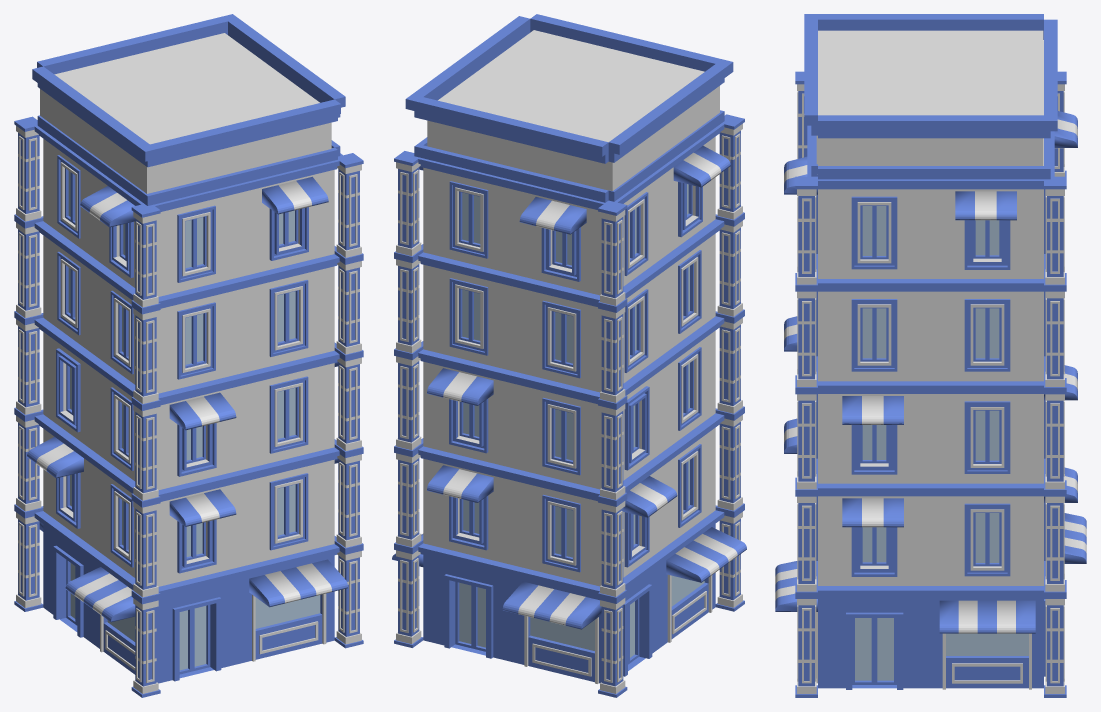
The model's file is Building_5.fbx.
The picture shows the model from 3 angles, left to right: view 1: azimuth 30°, elevation 25°; view 2: azimuth 150°, elevation 25°; view 3: azimuth 270°, elevation 25°; orthographic projection. The views are drawn at different scales.
Parts seen in each view (by area): view 1: Home-3.002; view 2: Home-3.002; view 3: Home-3.002.
Part boxes in pixels (box(x1,y1,x2,y2)): Home-3.002: box(14, 14, 363, 697); Home-3.002: box(392, 14, 746, 697); Home-3.002: box(775, 14, 1086, 697).
Size of the model in its own units: 1656 by 3360 by 1656.
